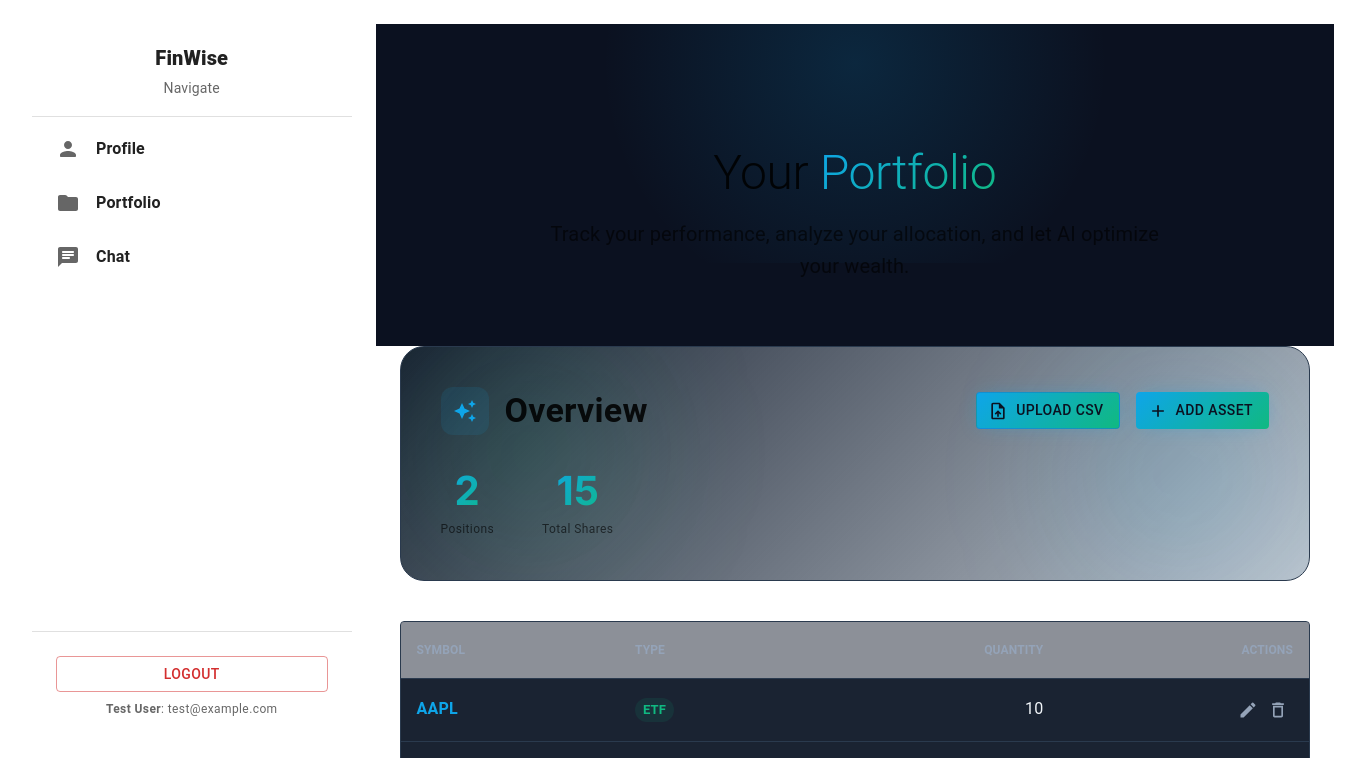
Test: Portfolio Integration Flow › opens the Delete confirmation modal and removes the asset on confirm
The width and height of the screenshot is (1366, 758).
Expected: the text "AAPL" is shown, [400,678,619,741]
# click the delete icon on the first row
Step 1. Click the button with test id "DeleteOutlineIcon" → x=1278, y=710, box [1263,694,1293,724]
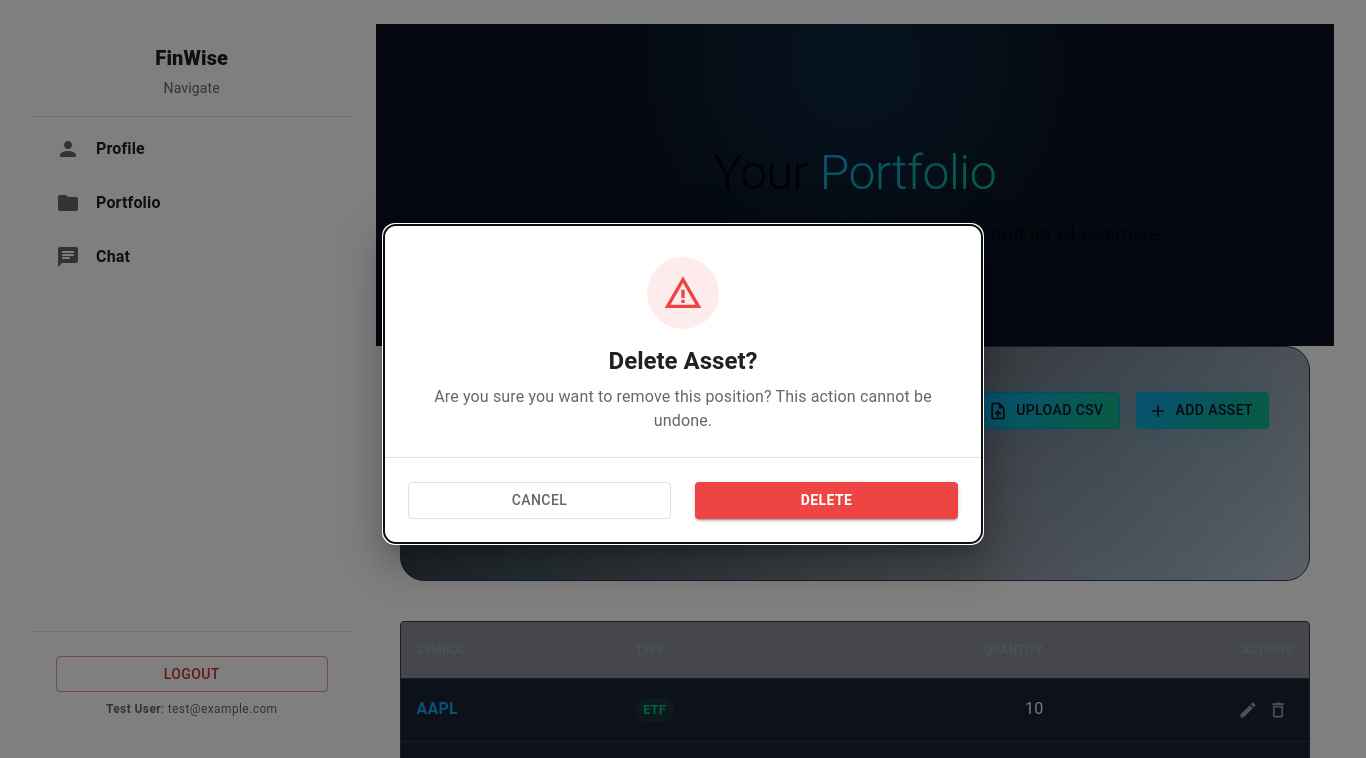
# confirm the deletion in the modal
Step 2. Click the button "Delete" → x=826, y=501, box [695,482,958,519]
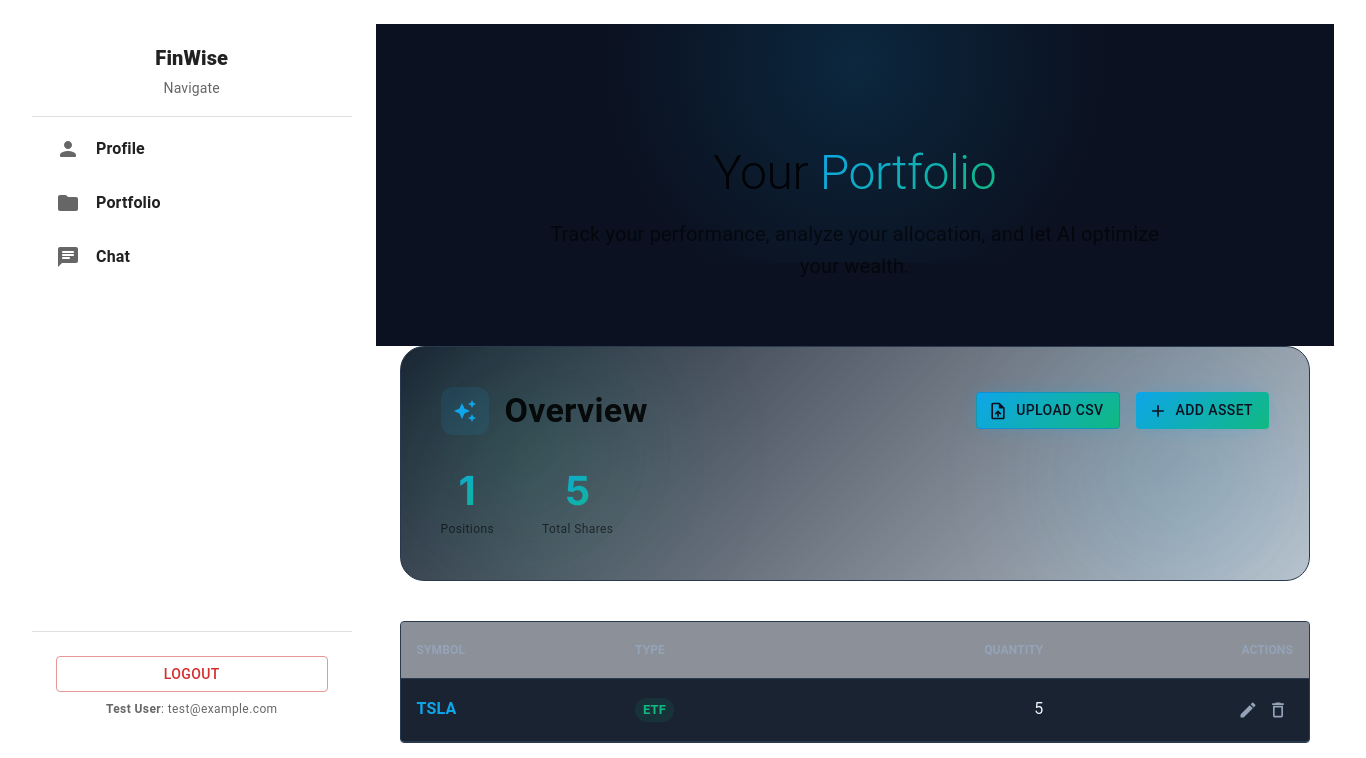
Expected: the text "TSLA" is shown, [400,678,619,741]
Now the text "AAPL" is gone
